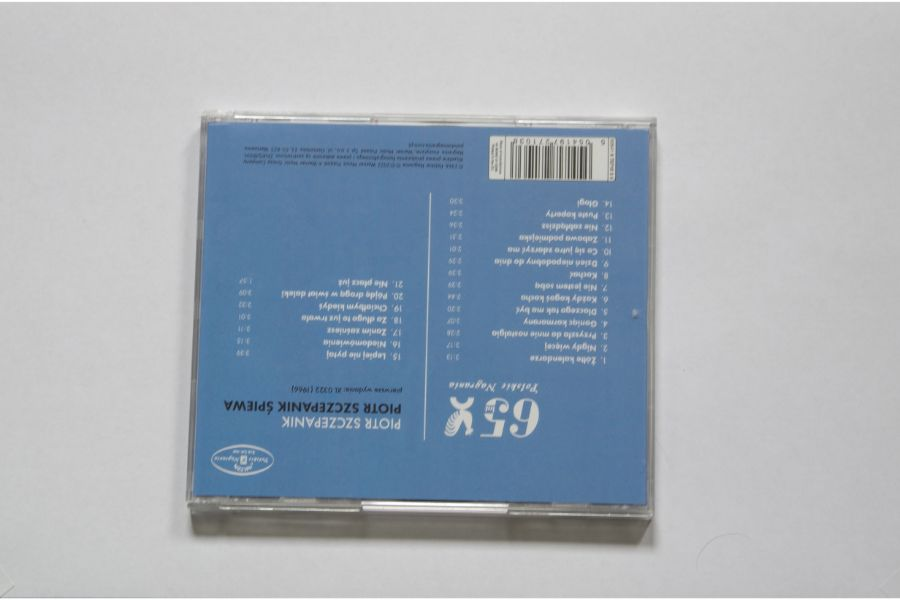album: (187, 103, 659, 522)
